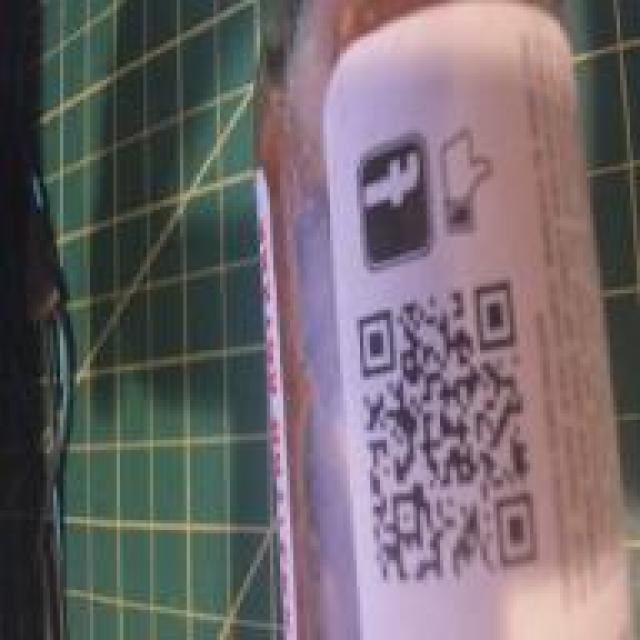qr_code: (356, 277, 539, 586)
